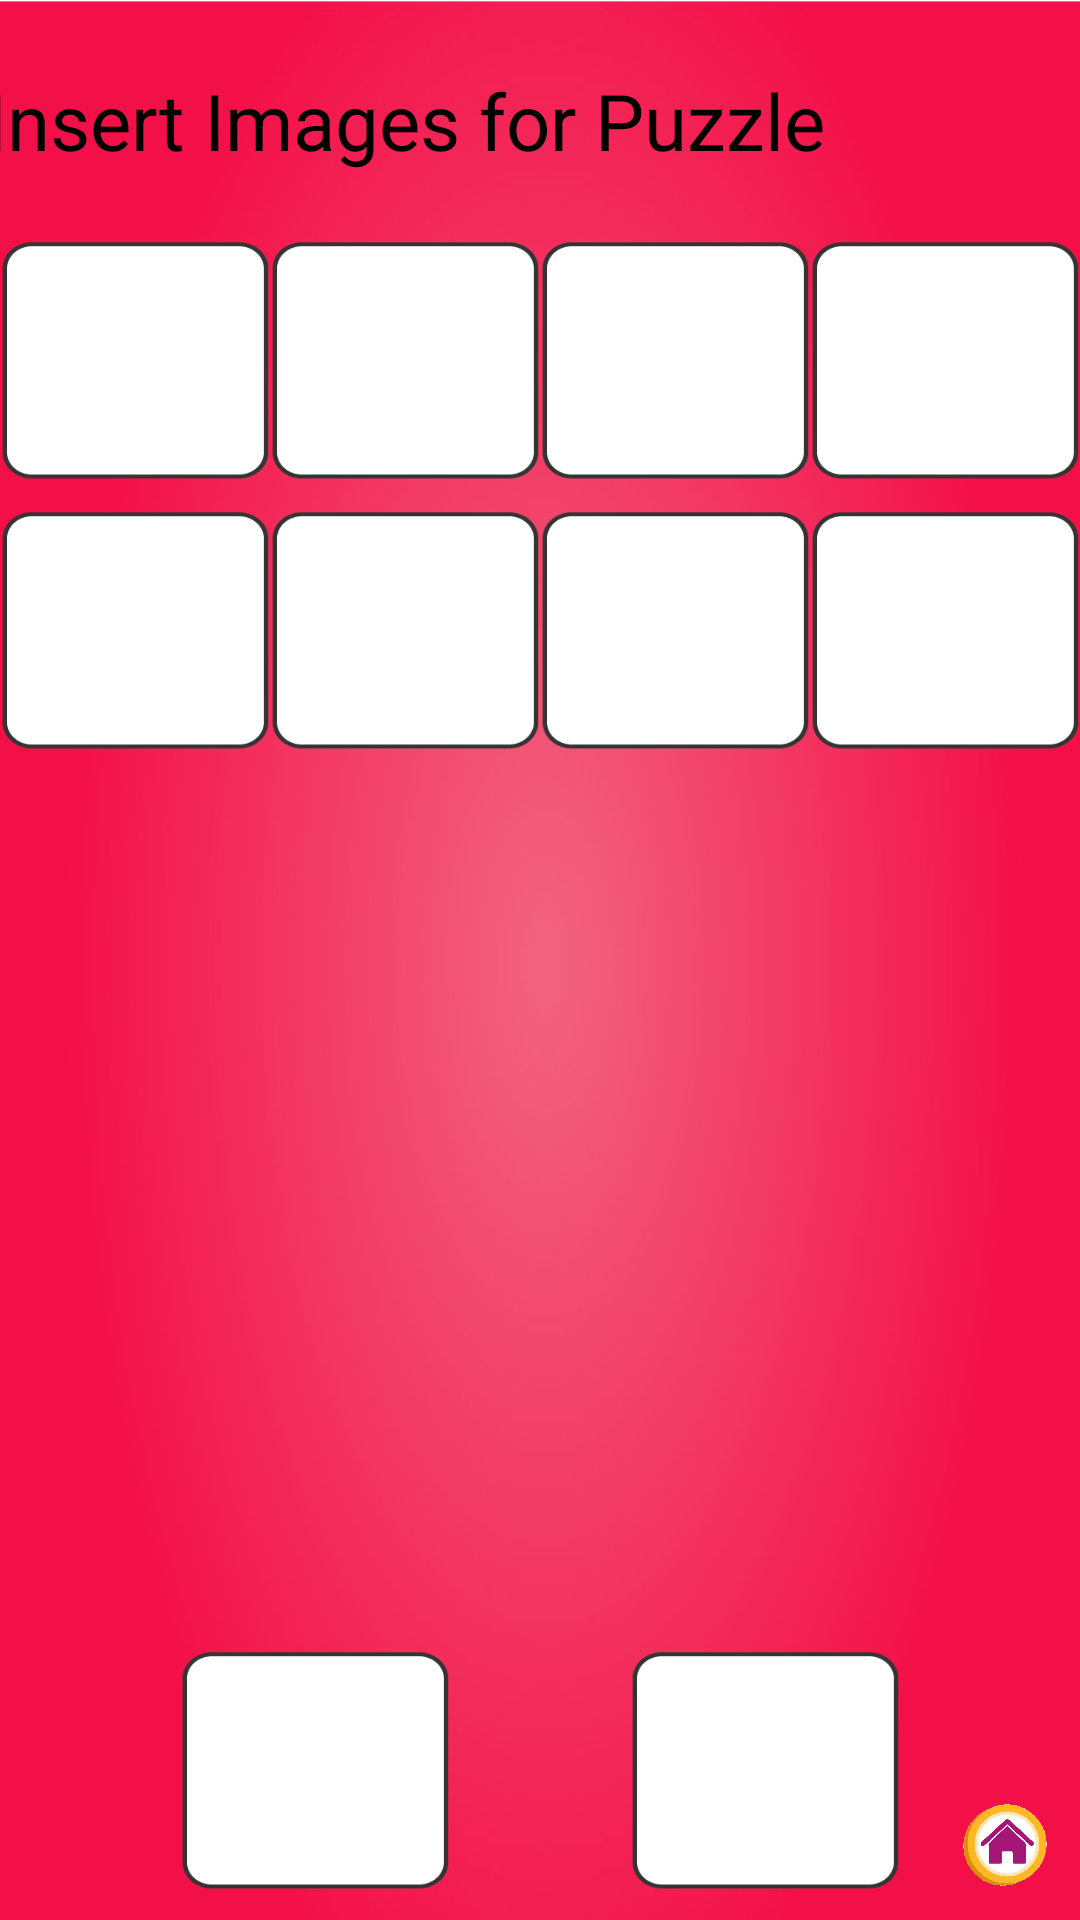

Named icons in this screenshot (1080px x 1920px) and their centers, [x,y]:
homebutton: [1005,1845]
